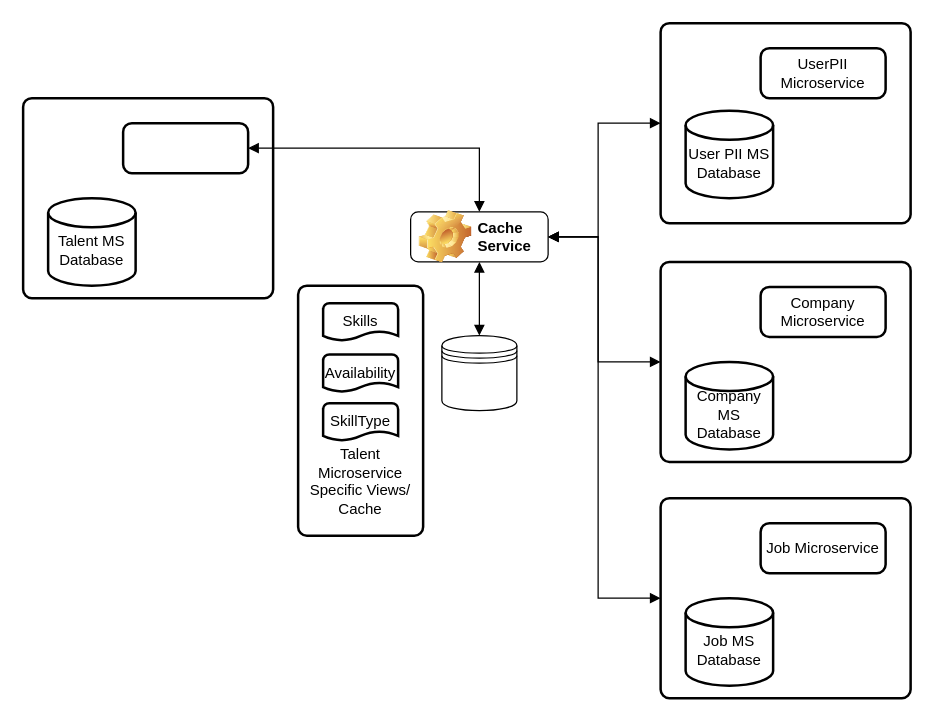
Image size: 933x720. Some labels were removed from this diagram. The shapes that lost their labels are listed below. From the top down, each one's centre as x and y in pixels, then its label:
point 185,147: Talent Microservice
point 479,372: Redis Cache
